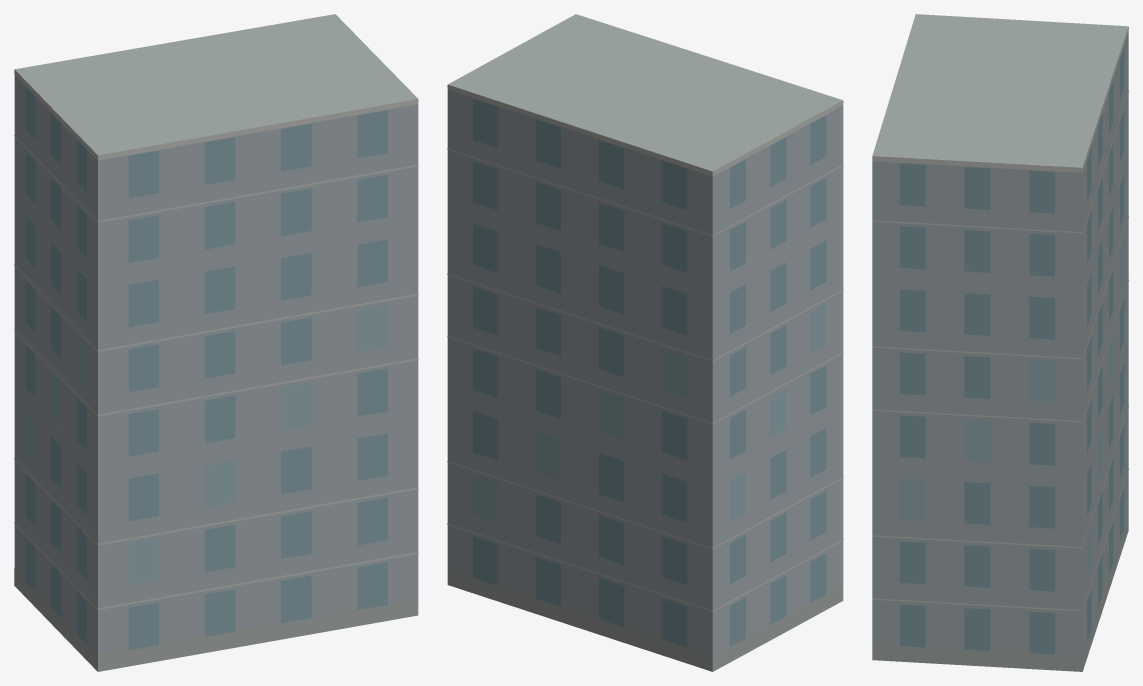
The model's file is survey-upis-32811105.glb.
The picture shows the model from 3 angles, left to right: view 1: azimuth 30°, elevation 25°; view 2: azimuth 150°, elevation 25°; view 3: azimuth 270°, elevation 25°; orthographic projection. The views are drawn at different scales.
Parts seen in each view (by area): view 1: survey-upis-32811105.tmp; view 2: survey-upis-32811105.tmp; view 3: survey-upis-32811105.tmp.
Boxes of the visible parts, x1,y1,x2,y2 form: survey-upis-32811105.tmp: (14,14,418,671); survey-upis-32811105.tmp: (447,14,843,671); survey-upis-32811105.tmp: (872,14,1128,671).
Bounding box in the file's own units: 15.61 × 23.8 × 11.
